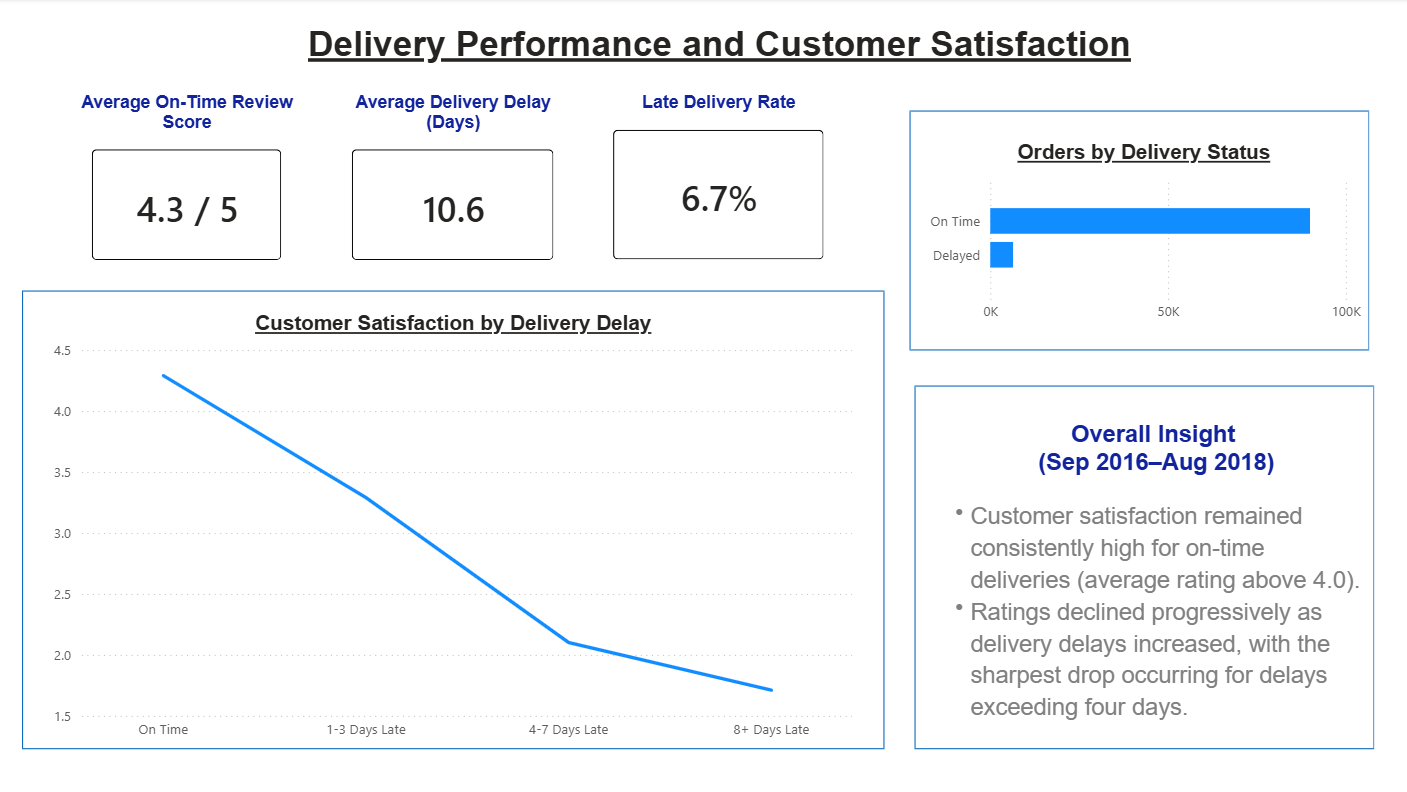

The dashboard page shown, as its layout file describes it:
{"tool":"powerbi","page":{"name":"Delivery Performance and Customer Satisfaction","canvas":[1280,720],"ordinal":3},"visuals":[{"type":"lineChart","title":"Customer Satisfaction by Delivery Delay","fields":{"Category":["Severity of Delays.delay_bucket"],"Y":["Sum(Severity of Delays.avg_review_score)"]},"box":[46.3,283.4,731.7,395.2],"z":0},{"type":"cardVisual","title":"Average On-Time Review Score","fields":{"Data":["Severity of Delays.Average Review Score"]},"box":[68.9,84.7,205.5,169.4],"z":1000},{"type":"cardVisual","title":"Average Delivery Delay (Days)","fields":{"Data":["olist_orders_dataset.Average Delivery Delay (Days)"]},"box":[303.7,84.7,216.8,169.4],"z":2000},{"type":"textbox","box":[210,19.2,885.3,65.5],"z":3000},{"type":"textbox","box":[842.3,447.1,395.2,231.5],"z":4000},{"type":"textbox","box":[874,377.1,346.6,77.9],"z":5000},{"type":"shape","box":[828.8,350,415.5,328.6],"z":6000},{"type":"cardVisual","title":"Late Delivery Rate","fields":{"Data":["On-Time vs Delayed Deliveries.Late Deliveries %"]},"box":[539.7,84.7,224.7,169.4],"z":7000},{"type":"shape","box":[22.6,264.2,779.1,414.4],"z":8000},{"type":"barChart","title":"Orders by Delivery Status","fields":{"Category":["On-Time vs Delayed Deliveries.delivery_status"],"Y":["Sum(On-Time vs Delayed Deliveries.total_orders)"]},"box":[834.4,128.7,403.1,172.8],"z":9000},{"type":"shape","box":[824.3,101.6,415.5,216.8],"z":10000}]}

Visuals, with their boxes in screenshot pixels (x1, y1, x2, y2), scaled from the page's 1280x720 canvas onto the 1407x792 screenshot:
"Customer Satisfaction by Delivery Delay" lineChart: l=51, t=312, r=855, b=746
"Average On-Time Review Score" cardVisual: l=76, t=93, r=302, b=280
"Average Delivery Delay (Days)" cardVisual: l=334, t=93, r=572, b=280
textbox: l=231, t=21, r=1204, b=93
textbox: l=926, t=492, r=1360, b=746
textbox: l=961, t=415, r=1342, b=501
shape: l=911, t=385, r=1368, b=746
"Late Delivery Rate" cardVisual: l=593, t=93, r=840, b=280
shape: l=25, t=291, r=881, b=746
"Orders by Delivery Status" barChart: l=917, t=142, r=1360, b=332
shape: l=906, t=112, r=1363, b=350
